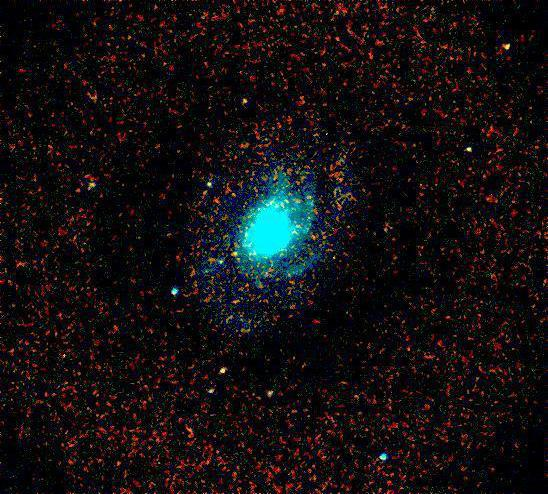star: (221, 238, 251, 268)
